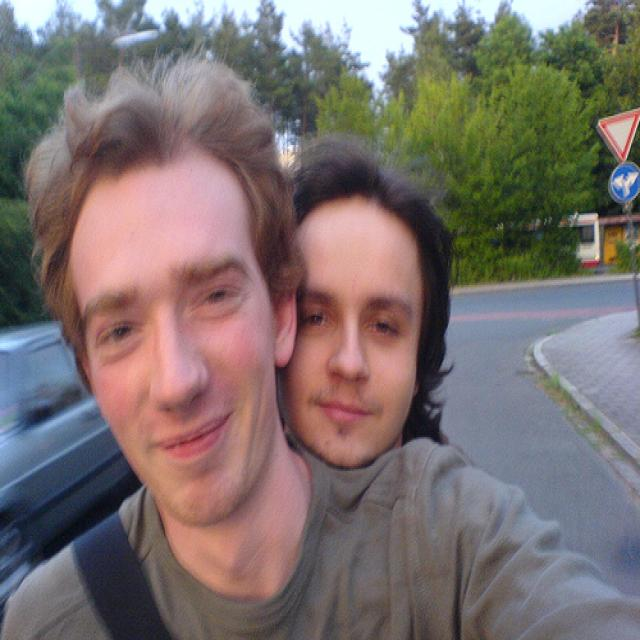light_vehicle: (0, 316, 133, 585)
